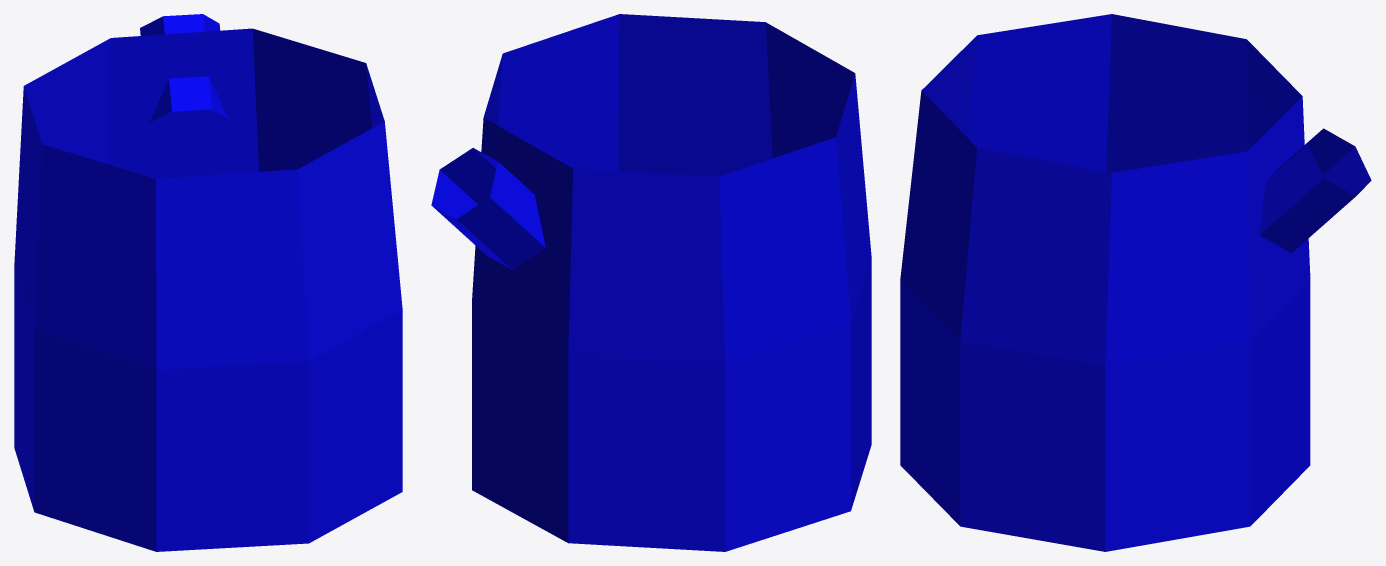
The model's file is res.fbx.
The picture shows the model from 3 angles, left to right: view 1: azimuth 30°, elevation 25°; view 2: azimuth 150°, elevation 25°; view 3: azimuth 270°, elevation 25°; orthographic projection. The views are drawn at different scales.
Parts seen in each view (by area): view 1: Cube; view 2: Cube; view 3: Cube.
Boxes of the visible parts, <box> form: Cube: <box>14,14,402,551</box>; Cube: <box>431,14,871,551</box>; Cube: <box>900,14,1371,551</box>.
Size of the model in its own units: 2 by 2.01 by 2.3.
